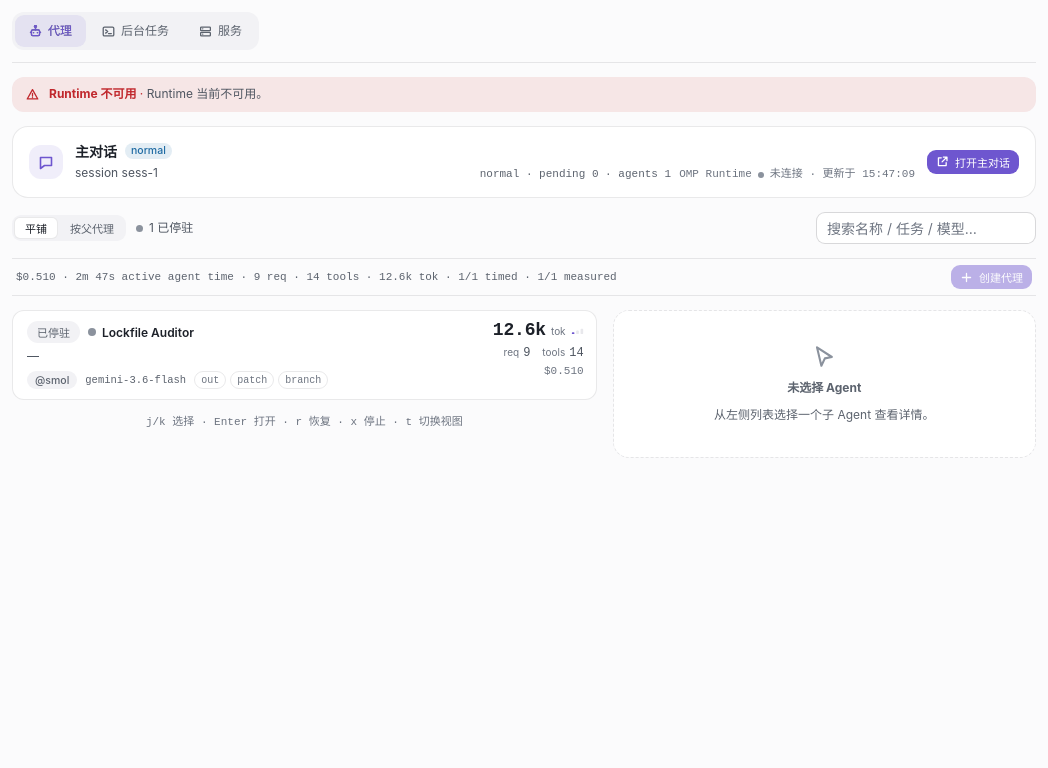
Scenario: AgentHubPage real-mode projection › maps per-agent usage, model, and artifact fields from the runtime snapshot
Expected: the text "12.6k" is shown, [493,321,546,339]
Expected: the text "$0.510" is shown, [544,366,584,377]
# Select the agent to open the detail pane.
Click the option "Lockfile Auditor" at (54, 332), box [12,310,597,400]
(page scrolled)
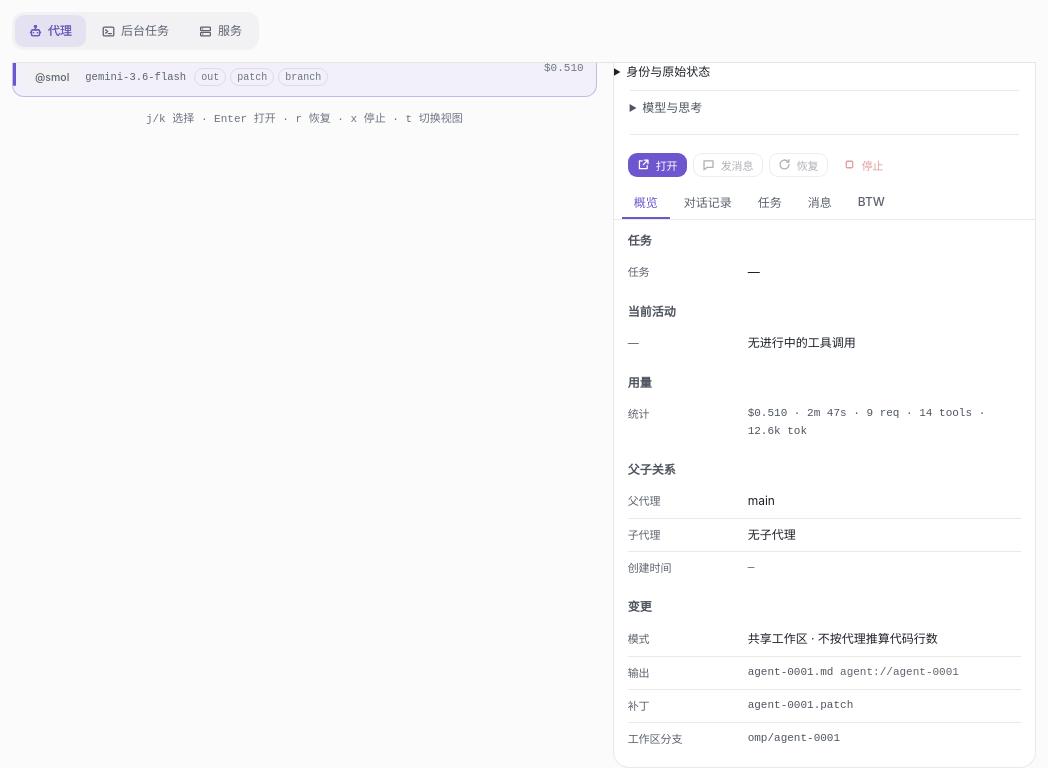
Expected: the text "gemini-3.6-flash" is shown, [85,71,186,83]
Now the text "agent-0001.md agent://agent-0001" is shown, box [748,666,959,678]
Now the text "omp/agent-0001" is shown, box [748,732,840,744]
